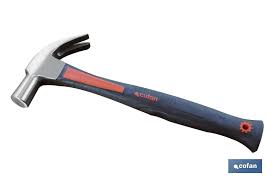martillu: (8, 32, 268, 155)
